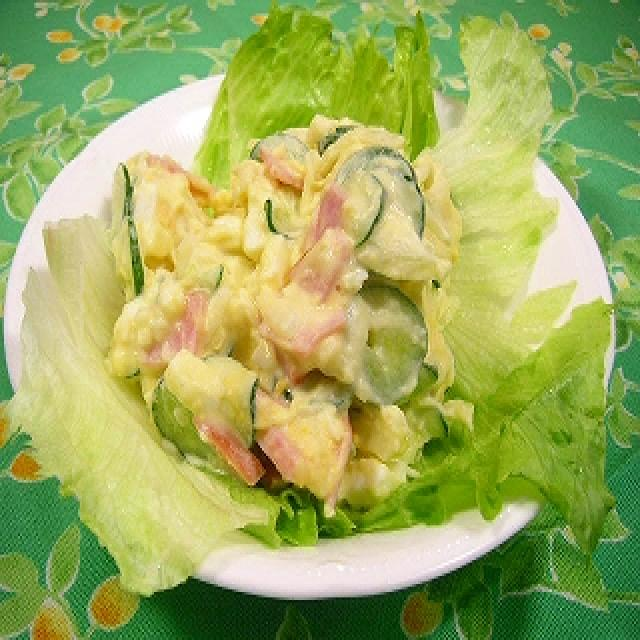蔬菜料理: (0, 5, 616, 603)
